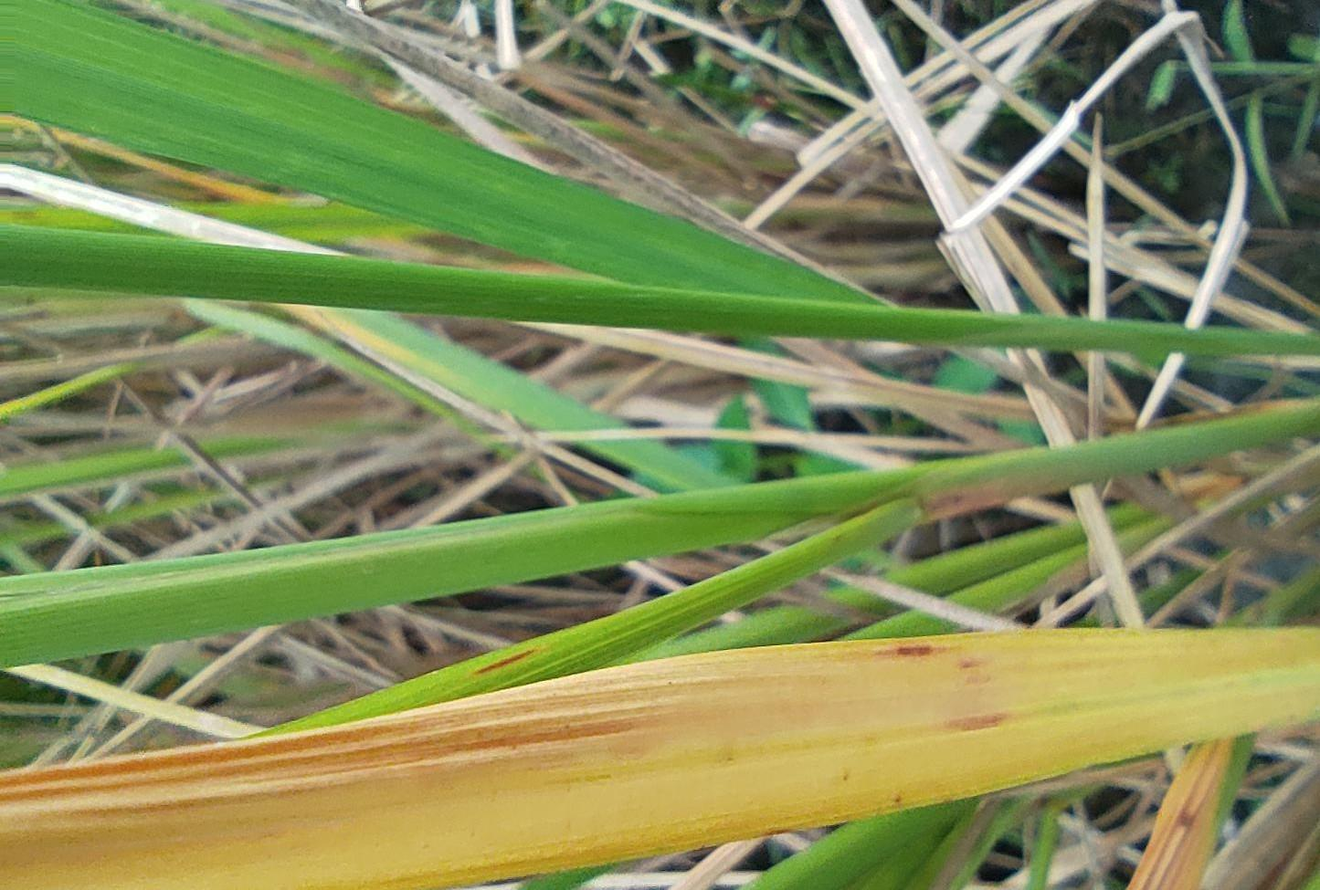LEAF: (0, 629, 1319, 889)
NBS: (0, 629, 1319, 889), (0, 727, 485, 802), (0, 717, 456, 789), (361, 721, 633, 758), (950, 714, 1007, 730), (889, 644, 937, 656), (957, 662, 985, 670)
